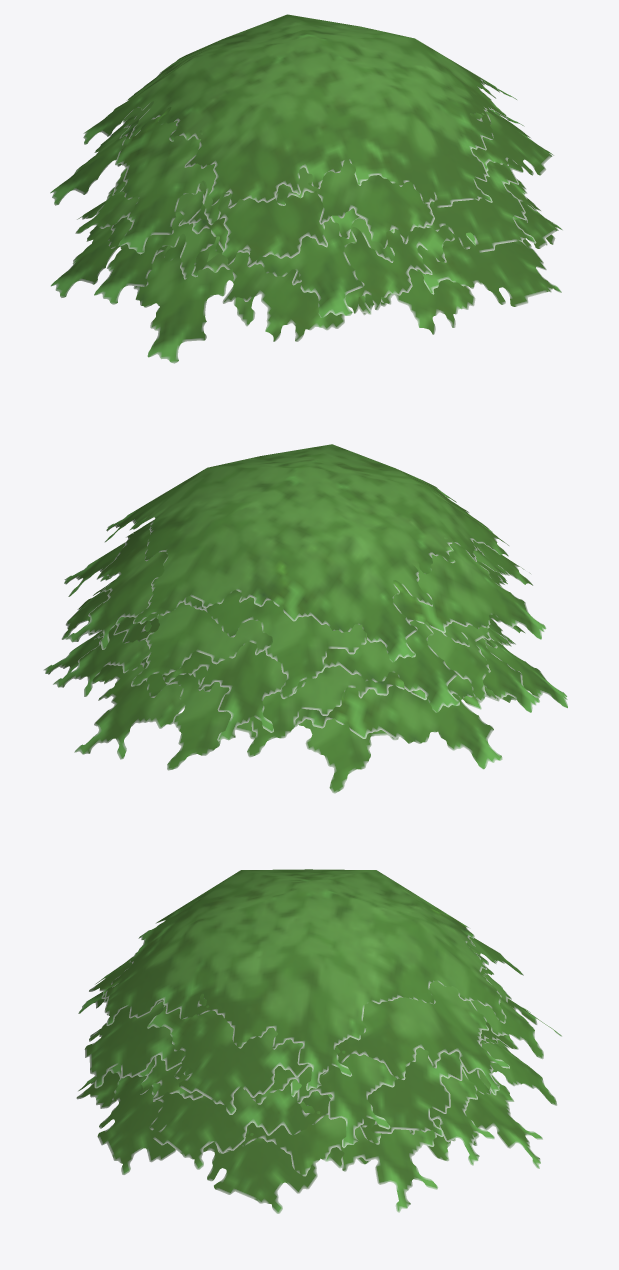
The model's file is gg_Shrub.FBX.
3 renders of one model, top to bottom at view 1: azimuth 30°, elevation 25°; view 2: azimuth 150°, elevation 25°; view 3: azimuth 270°, elevation 25°, orthographic. The views are drawn at different scales.
Parts seen in each view (by area): view 1: gg_Shrub; view 2: gg_Shrub; view 3: gg_Shrub.
Part boxes in pixels (x1=…): gg_Shrub: x1=50, y1=14, x2=562, y2=363; gg_Shrub: x1=43, y1=444, x2=567, y2=793; gg_Shrub: x1=76, y1=869, x2=562, y2=1213.
Bounding box in the file's own units: 60.9 × 28.85 × 62.61.
1 material, 1 textured.
